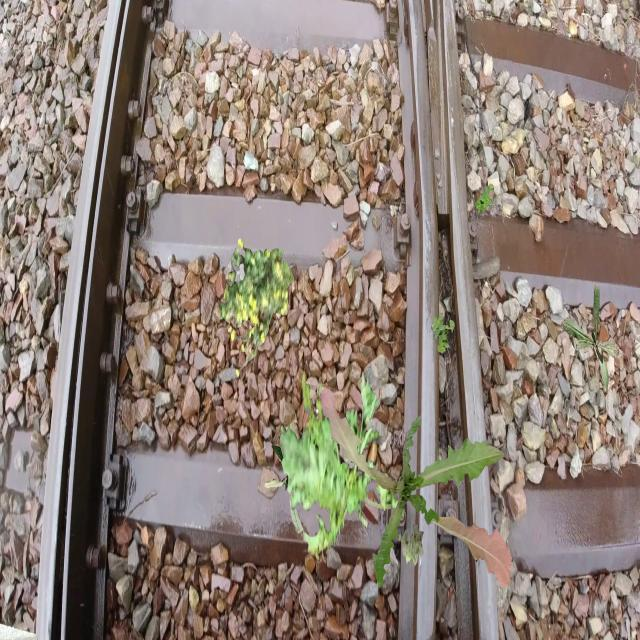Plant: (320, 387, 512, 590), (280, 368, 405, 564), (220, 238, 295, 378), (561, 284, 625, 396), (265, 425, 305, 535), (398, 524, 424, 566), (431, 313, 455, 354), (475, 183, 494, 216)
